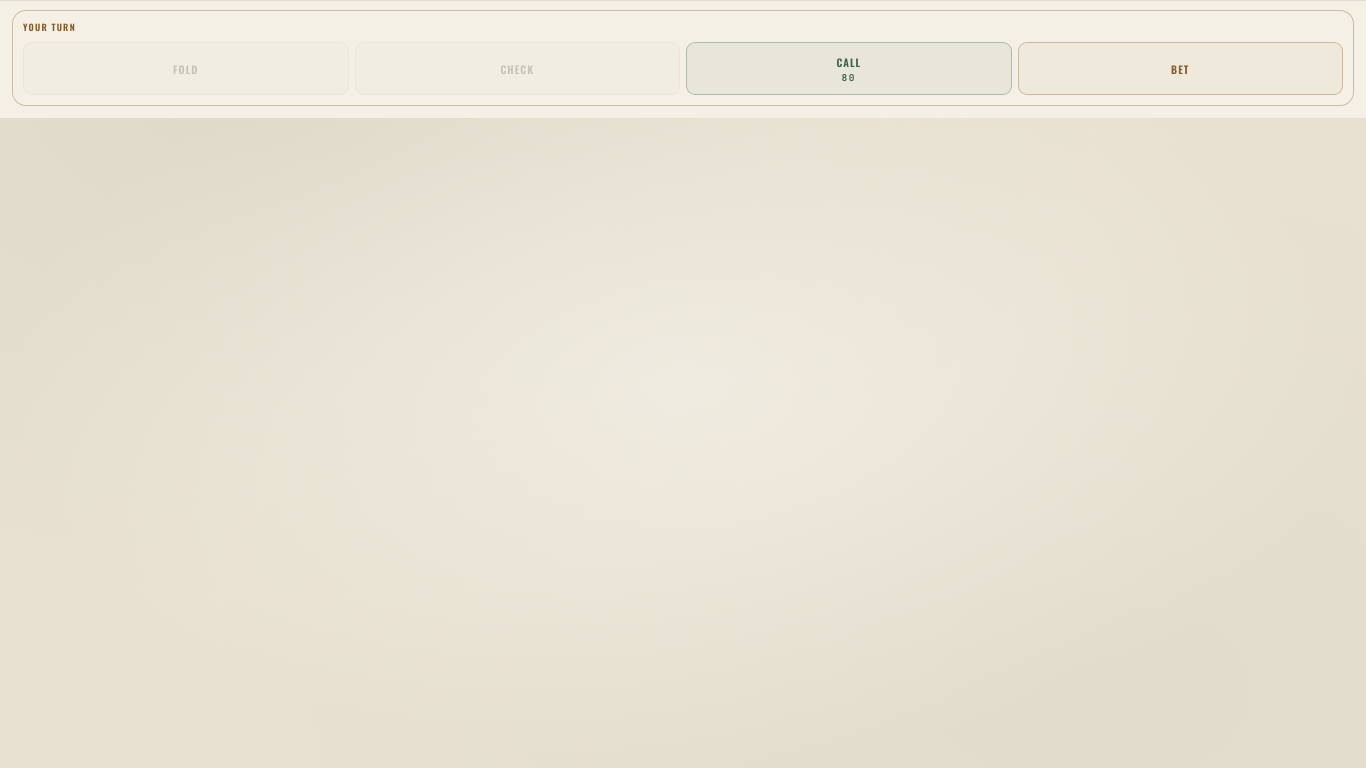
Test: BET is the one verb that needs a number › says RAISE when the spot is a raise, because that is what it is
The image size is (1366, 768).
What coordinates should you click on to do the following:
click the button "BET"
I would click on:
 (1180, 68)
Its box is x1=1018 y1=42 x2=1343 y2=95.
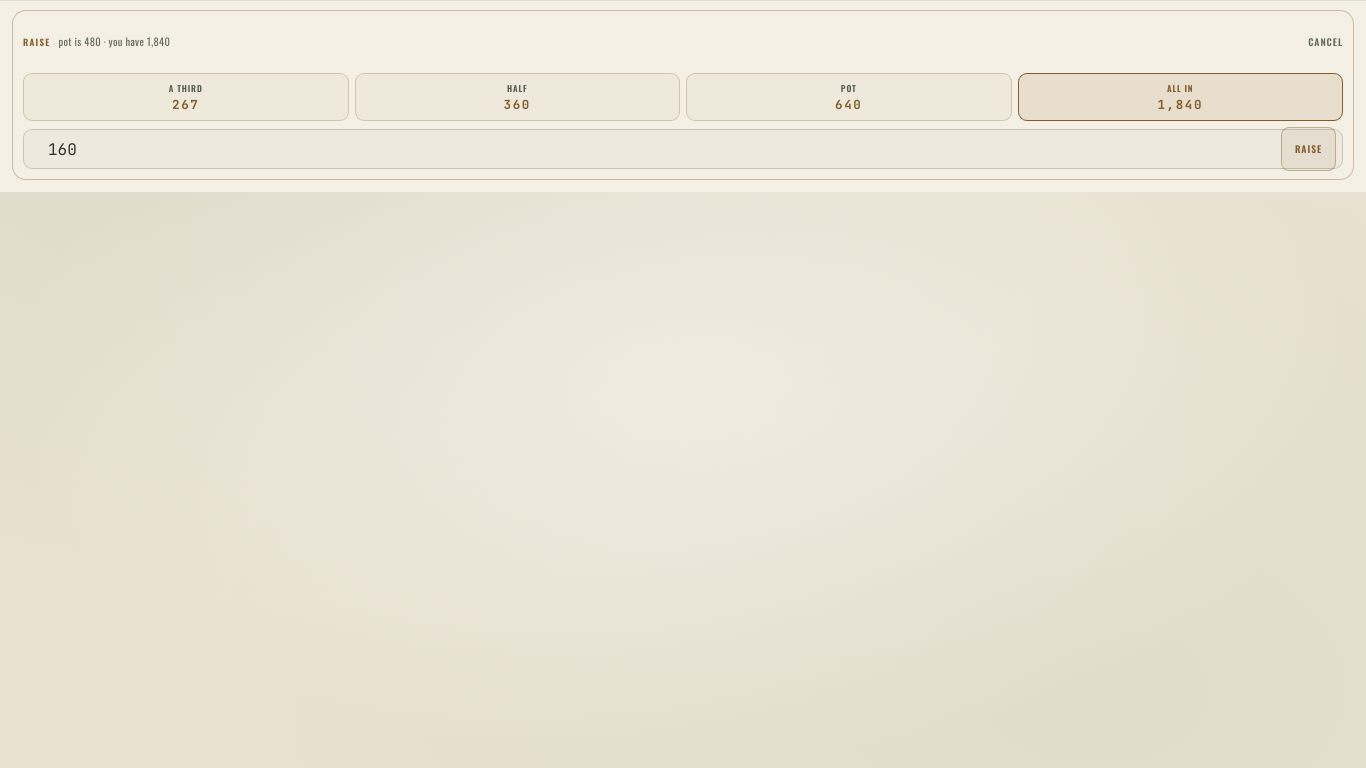
Expected: the text with class "sit-bet__label" reads "RAISE", x1=23 y1=35 x2=50 y2=49
Expected: the button with class "sit-bet__go" reads "RAISE", x1=1281 y1=127 x2=1336 y2=171
